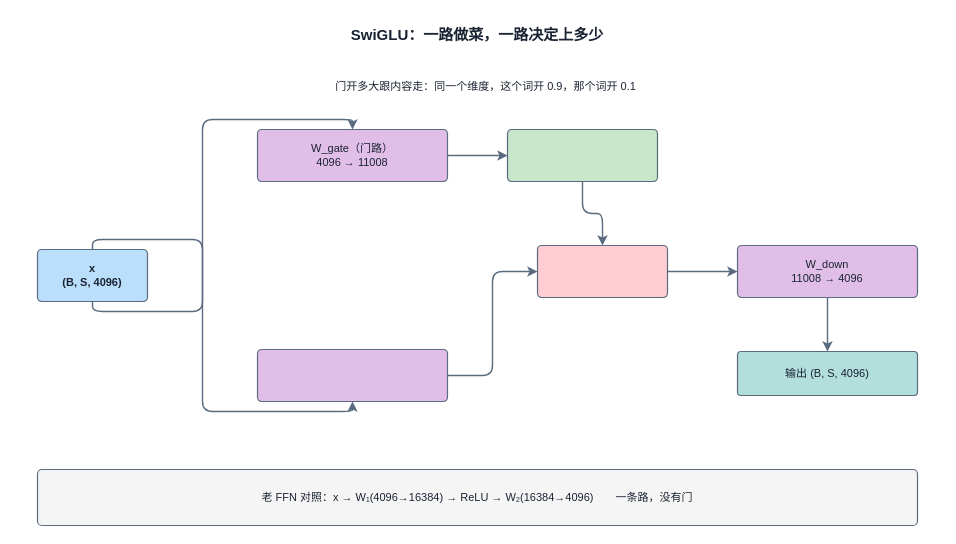
Image size: 956x544. Some labels were removed from this diagram. Each missing label, with the centre of its shape:
SiLU (连续阀门 0~1): the point at 582,155
W_up（内容路） 4096 → 11008: the point at 352,375
⊙ 逐元素相乘: the point at 602,271
